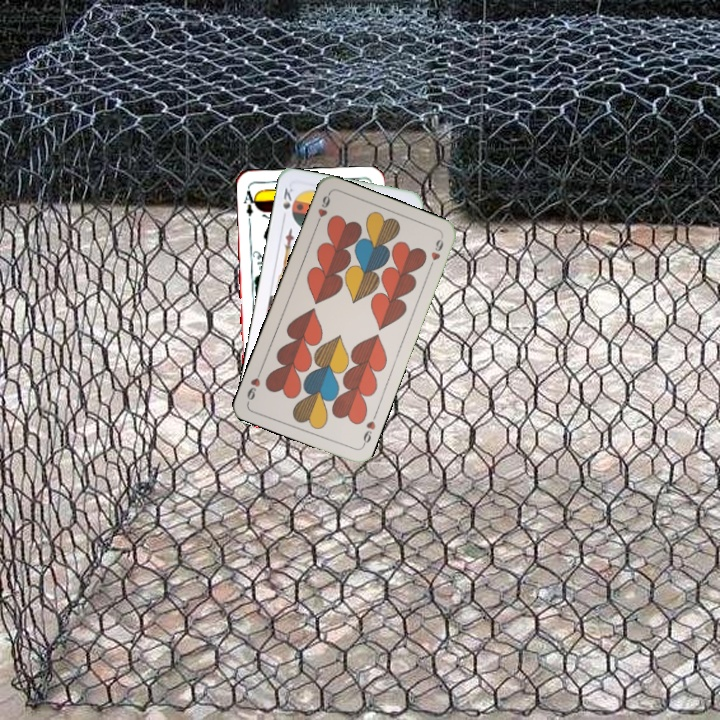EA: (240, 184, 260, 225)
H9: (312, 190, 333, 229), (358, 410, 379, 449)
SK: (279, 184, 297, 212)
